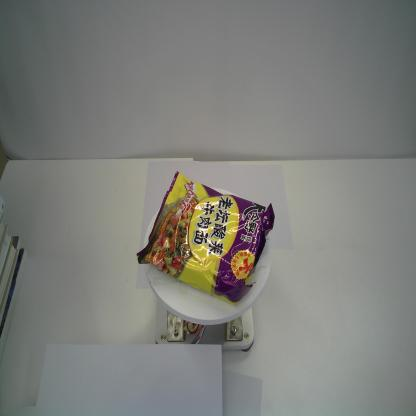Instant Noodles: (136, 169, 276, 307)
